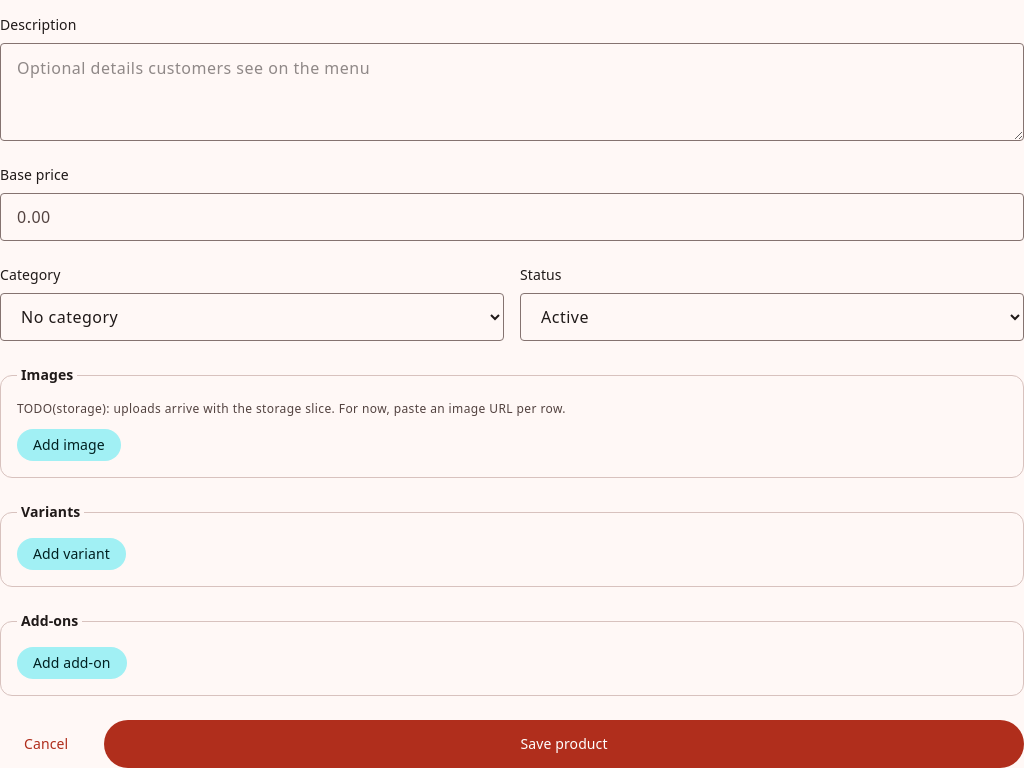
Scenario: ProductForm validation › shows required-field errors when submitted empty
The image size is (1024, 768).
(page scrolled)
What coordinates should you click on to do the following:
click the button "Save product"
I would click on:
 (564, 744)
Its box is [104,720,1023,767].
(page scrolled)
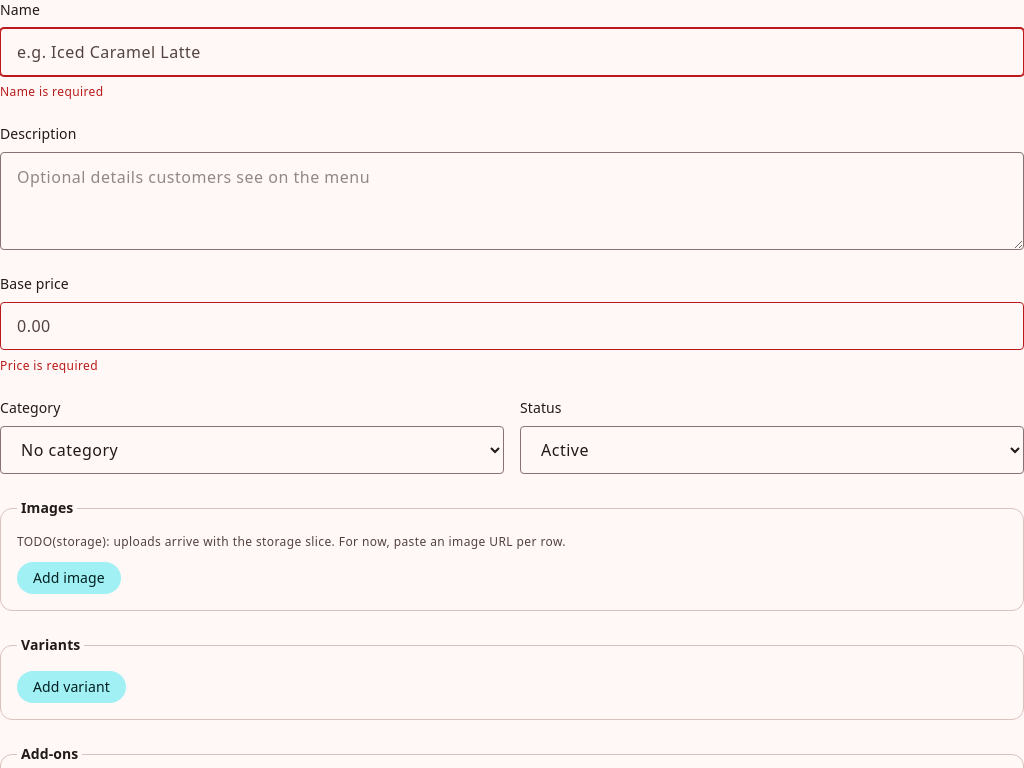
Check: the text "Name is required" is shown, box [0,83,104,100]
Check: the text "Price is required" is shown, box [0,357,98,374]
